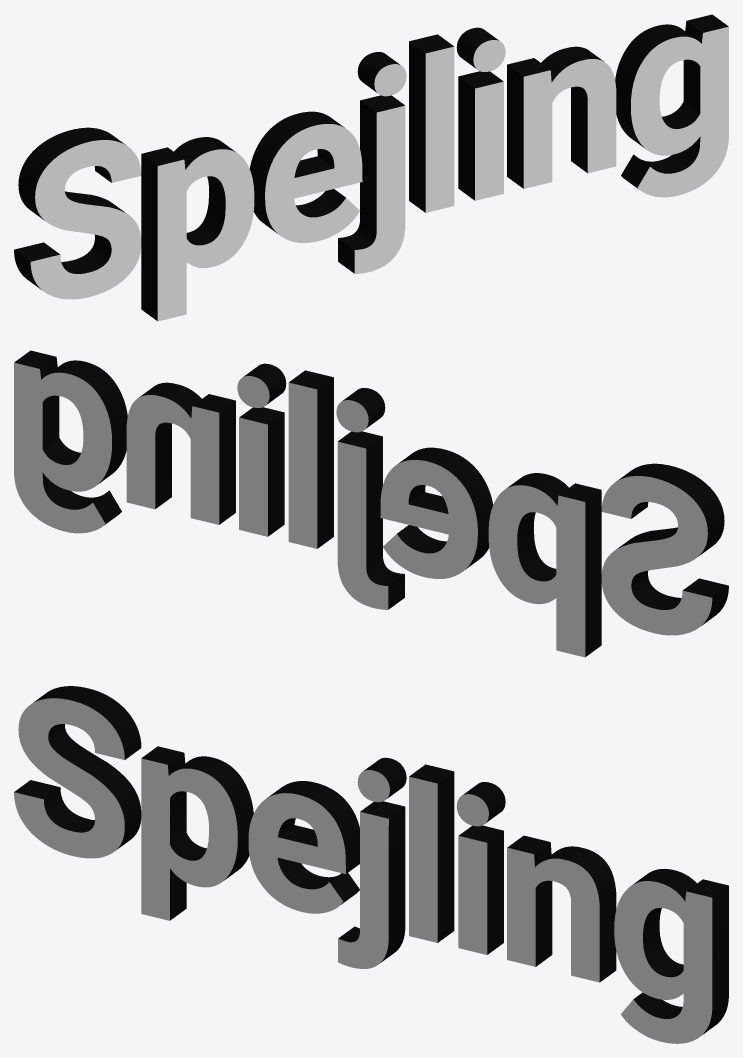
The model's file is spejl.obj.
The picture shows the model from 3 angles, top to bottom: view 1: azimuth 30°, elevation 25°; view 2: azimuth 150°, elevation 25°; view 3: azimuth 330°, elevation 25°; orthographic projection.
Parts seen in each view (by area): view 1: Spejling; view 2: Spejling; view 3: Spejling.
Boxes of the visible parts, x1,y1,x2,y2 form: Spejling: (14,14,728,321); Spejling: (14,350,728,657); Spejling: (14,686,728,1043).
Size of the model in its own units: 242 by 67.97 by 10.
3 materials, 2 textured.
